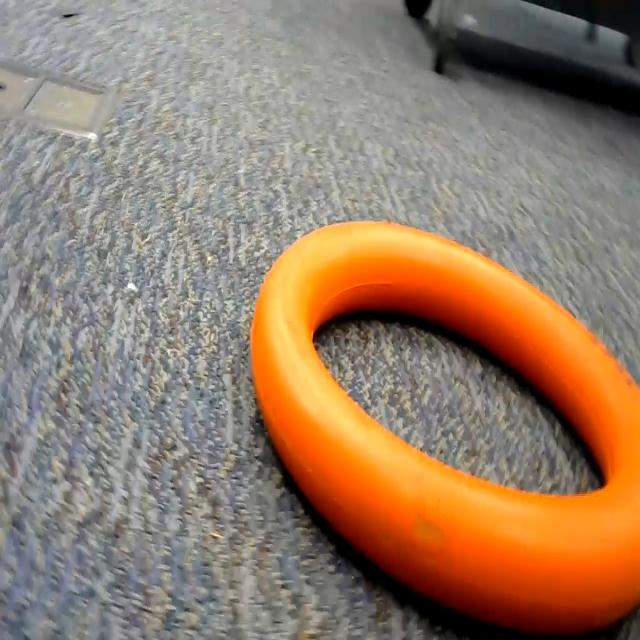note: (256, 200, 640, 640)
